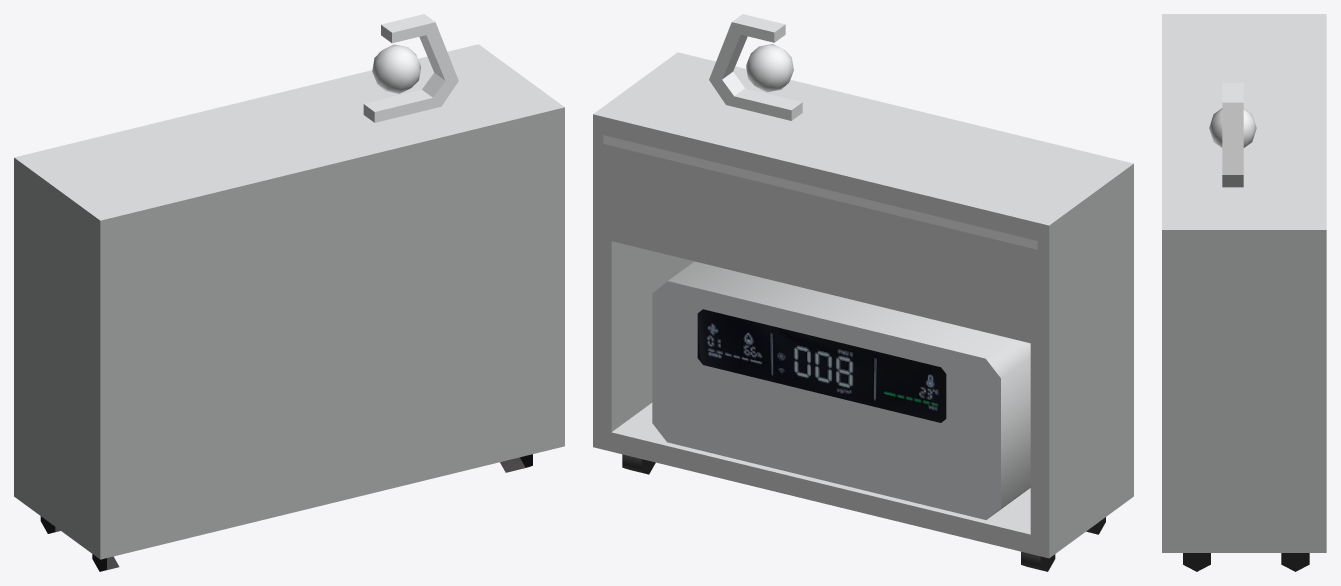
Rendered from M_ruhugui01.FBX.
The picture shows the model from 3 angles, left to right: view 1: azimuth 30°, elevation 25°; view 2: azimuth 150°, elevation 25°; view 3: azimuth 270°, elevation 25°; orthographic projection. The views are drawn at different scales.
Visible parts, largest first — view 1: M_ruhugui01_01, M_ruhugui01_05, M_ruhugui01_06; view 2: M_ruhugui01_01, M_ruhugui01_03, M_ruhugui01_04, M_ruhugui01_02, M_ruhugui01_05, M_ruhugui01_06; view 3: M_ruhugui01_01, M_ruhugui01_05, M_ruhugui01_06.
Part boxes in pixels (<box>): M_ruhugui01_01: <box>14,44,564,571</box>; M_ruhugui01_05: <box>363,14,458,122</box>; M_ruhugui01_06: <box>372,44,420,93</box>; M_ruhugui01_01: <box>593,52,1133,571</box>; M_ruhugui01_03: <box>652,261,1030,519</box>; M_ruhugui01_04: <box>697,309,946,422</box>; M_ruhugui01_02: <box>603,135,1037,249</box>; M_ruhugui01_05: <box>709,14,802,120</box>; M_ruhugui01_06: <box>746,44,793,92</box>; M_ruhugui01_01: <box>1162,14,1326,571</box>; M_ruhugui01_05: <box>1222,82,1243,187</box>; M_ruhugui01_06: <box>1209,108,1256,147</box>.
Size of the model in its own units: 1.51 by 1.41 by 0.4853.
